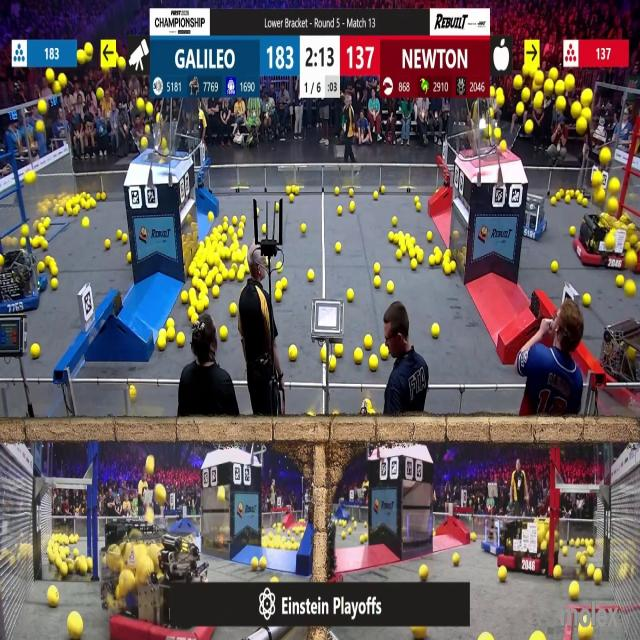ball_airborne: (575, 116, 586, 134), (600, 148, 610, 166), (157, 486, 167, 504), (583, 90, 593, 107), (146, 456, 155, 474), (592, 170, 602, 186), (609, 178, 619, 193), (564, 74, 574, 88), (572, 102, 580, 118), (533, 93, 542, 107), (557, 97, 566, 111), (543, 80, 553, 92), (217, 487, 225, 502), (608, 199, 617, 212), (59, 73, 68, 86), (523, 64, 532, 77), (496, 92, 504, 106), (38, 100, 46, 114), (45, 69, 53, 83), (556, 80, 564, 94), (596, 188, 605, 200), (534, 72, 543, 84), (584, 107, 592, 120), (516, 75, 524, 88), (146, 511, 154, 524), (525, 120, 533, 133), (517, 103, 525, 116), (27, 171, 35, 184), (77, 52, 85, 65), (523, 89, 530, 103), (86, 42, 94, 54), (493, 129, 501, 140), (532, 58, 540, 69), (551, 68, 558, 80), (138, 98, 145, 110), (37, 120, 44, 132), (146, 104, 153, 115), (117, 59, 124, 70), (55, 84, 62, 95), (102, 60, 108, 72), (141, 138, 148, 148), (500, 141, 506, 152), (98, 90, 104, 101), (23, 224, 29, 235), (144, 126, 150, 136), (488, 128, 493, 140), (162, 139, 168, 148), (490, 89, 496, 98), (155, 112, 160, 122), (490, 109, 494, 118), (139, 482, 144, 489)
ball_ground: (69, 614, 83, 640), (47, 587, 58, 607), (569, 583, 579, 601), (288, 346, 298, 360), (626, 282, 636, 296), (431, 323, 439, 338), (498, 567, 506, 582), (594, 569, 602, 584), (364, 336, 372, 351), (130, 384, 138, 399), (60, 563, 69, 576), (32, 344, 40, 358), (554, 566, 562, 580), (369, 356, 377, 370), (420, 565, 428, 579), (320, 348, 328, 362), (354, 349, 362, 362), (328, 356, 336, 369), (336, 344, 344, 357), (381, 346, 389, 359), (177, 334, 184, 348), (220, 326, 227, 340), (230, 305, 238, 317), (159, 339, 167, 351), (452, 554, 460, 566), (197, 302, 205, 314), (387, 281, 394, 294), (588, 565, 595, 578), (618, 276, 626, 287), (167, 328, 175, 339), (584, 293, 591, 305), (50, 278, 57, 290), (552, 262, 559, 274), (348, 288, 354, 302), (252, 558, 259, 570), (50, 266, 57, 278), (259, 558, 266, 570), (445, 264, 452, 276), (237, 272, 245, 282), (188, 288, 196, 298), (200, 269, 208, 279), (212, 286, 219, 297), (215, 275, 222, 286), (532, 633, 543, 640), (205, 276, 212, 287), (375, 276, 381, 288), (412, 260, 418, 272), (276, 289, 282, 301), (396, 249, 402, 261), (181, 290, 187, 302), (451, 262, 457, 274), (481, 634, 493, 640), (444, 256, 452, 265), (190, 313, 197, 323), (434, 254, 441, 264), (41, 240, 48, 250), (115, 231, 122, 241), (37, 264, 44, 274), (190, 278, 197, 288), (409, 248, 416, 258), (187, 267, 194, 277), (349, 203, 356, 213), (232, 252, 239, 262), (202, 285, 209, 295), (309, 271, 315, 282), (282, 279, 288, 290), (204, 296, 210, 307), (88, 558, 94, 569), (388, 233, 395, 242), (238, 231, 245, 240), (240, 265, 247, 274), (82, 217, 88, 227), (569, 225, 575, 235), (375, 265, 381, 275), (428, 255, 434, 265), (299, 222, 305, 232), (19, 238, 25, 248), (222, 271, 228, 281), (588, 545, 594, 555), (228, 271, 234, 281), (33, 238, 39, 248), (579, 556, 585, 566), (59, 208, 66, 216), (446, 249, 453, 257), (418, 252, 423, 263), (105, 240, 111, 249), (372, 193, 378, 202), (73, 207, 79, 216), (242, 246, 248, 255), (335, 186, 341, 195), (80, 200, 86, 209), (68, 207, 74, 216), (128, 252, 133, 262), (392, 216, 397, 226), (337, 243, 342, 253), (122, 234, 127, 244), (101, 192, 108, 199), (168, 319, 174, 327), (276, 281, 282, 289), (276, 263, 282, 271), (288, 193, 294, 201), (221, 235, 227, 243), (348, 188, 354, 196), (222, 224, 228, 232), (227, 225, 233, 233), (161, 328, 167, 336), (367, 410, 373, 418), (427, 233, 432, 242), (263, 223, 268, 232), (565, 197, 570, 206), (576, 197, 581, 206), (451, 230, 456, 239), (272, 576, 279, 582), (239, 221, 245, 228), (39, 227, 45, 234), (552, 199, 557, 207), (234, 216, 239, 224), (276, 203, 280, 213), (92, 200, 97, 208), (209, 212, 214, 220), (360, 535, 365, 543), (563, 546, 568, 554), (381, 186, 386, 194), (73, 550, 78, 558), (339, 207, 343, 216), (470, 533, 475, 540), (241, 216, 246, 223), (341, 520, 346, 527), (348, 527, 353, 534), (343, 534, 347, 542), (417, 204, 421, 212), (97, 192, 101, 200), (256, 208, 260, 216), (416, 194, 420, 202), (223, 216, 227, 223), (560, 539, 564, 546), (363, 522, 368, 527), (354, 522, 357, 528)
goal: (466, 124, 524, 161), (127, 127, 187, 160)
robot_blue: (0, 250, 42, 314), (520, 194, 548, 240), (482, 517, 508, 553)
robot_red: (103, 522, 212, 638), (602, 317, 640, 405), (576, 212, 631, 270), (499, 518, 552, 574)
